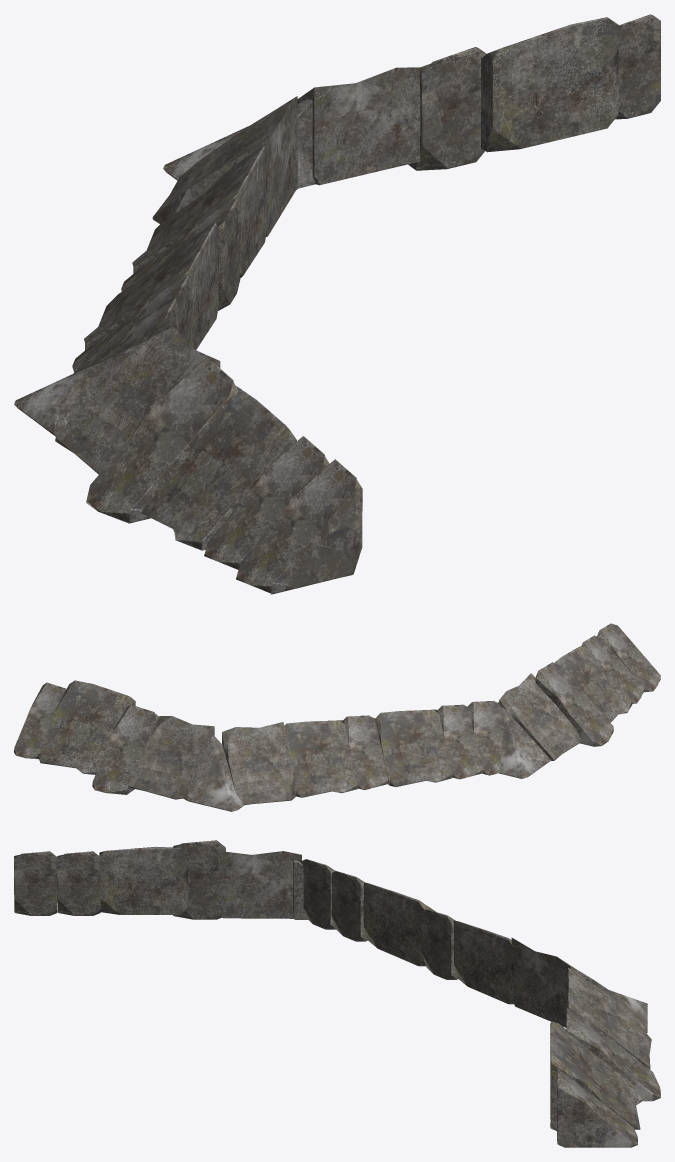
File: SM_CastleTower_WallTopper_A_03.fbx
The picture shows the model from 3 angles, top to bottom: view 1: azimuth 30°, elevation 25°; view 2: azimuth 150°, elevation 25°; view 3: azimuth 270°, elevation 25°; orthographic projection. The views are drawn at different scales.
Parts seen in each view (by area): view 1: SM_CastleTower_WallTopper_A_03_LOD0; view 2: SM_CastleTower_WallTopper_A_03_LOD0; view 3: SM_CastleTower_WallTopper_A_03_LOD0.
Boxes of the visible parts, <box> form: SM_CastleTower_WallTopper_A_03_LOD0: <box>14,14,660,594</box>; SM_CastleTower_WallTopper_A_03_LOD0: <box>14,623,660,811</box>; SM_CastleTower_WallTopper_A_03_LOD0: <box>14,840,660,1147</box>.
Size of the model in its own units: 417 by 415 by 60.32.
